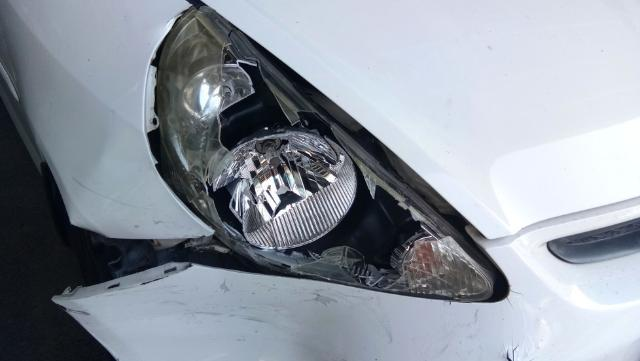Light: (141, 1, 501, 306)
